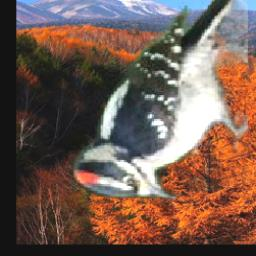Woodpecker: (68, 0, 248, 207)
